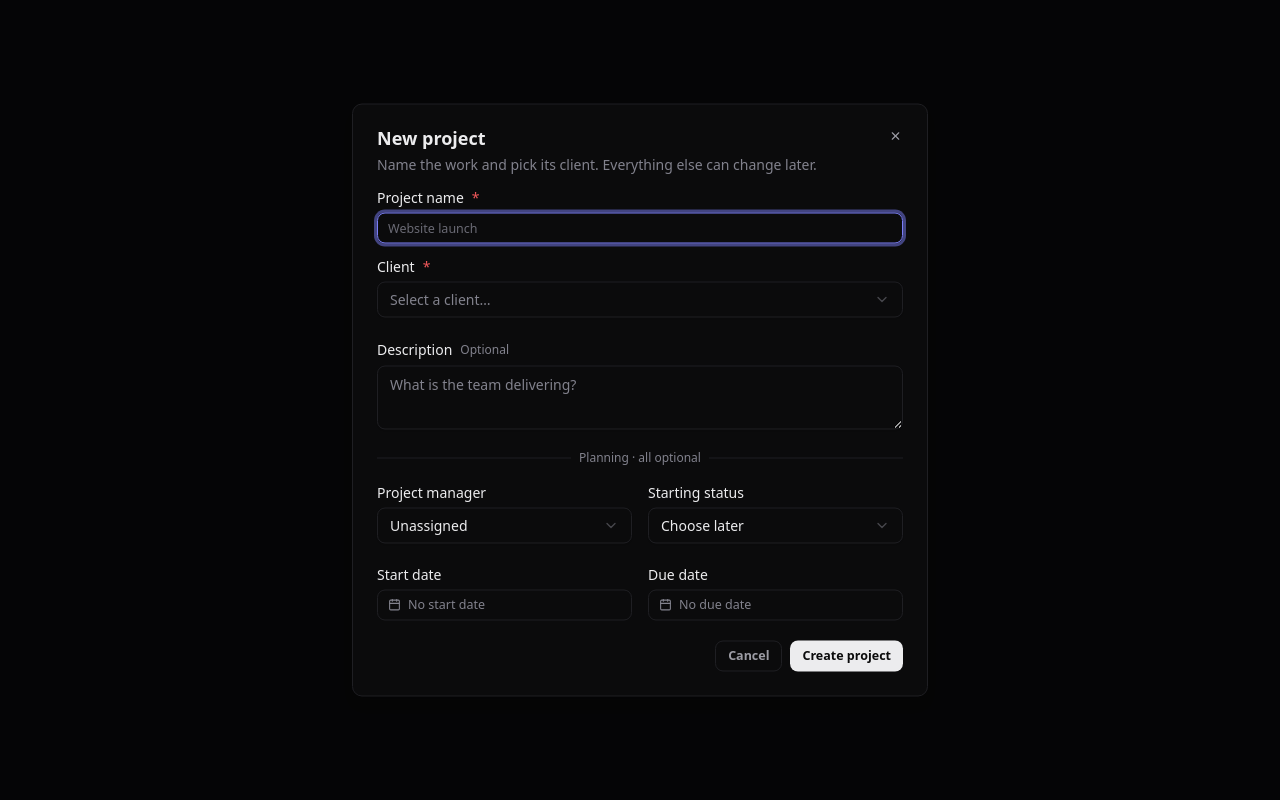
ProjectOnboarding › marks the client select required and reflects the chosen option
Click the dropdown labelled "client" at (440, 299), box [377,282,903,318]
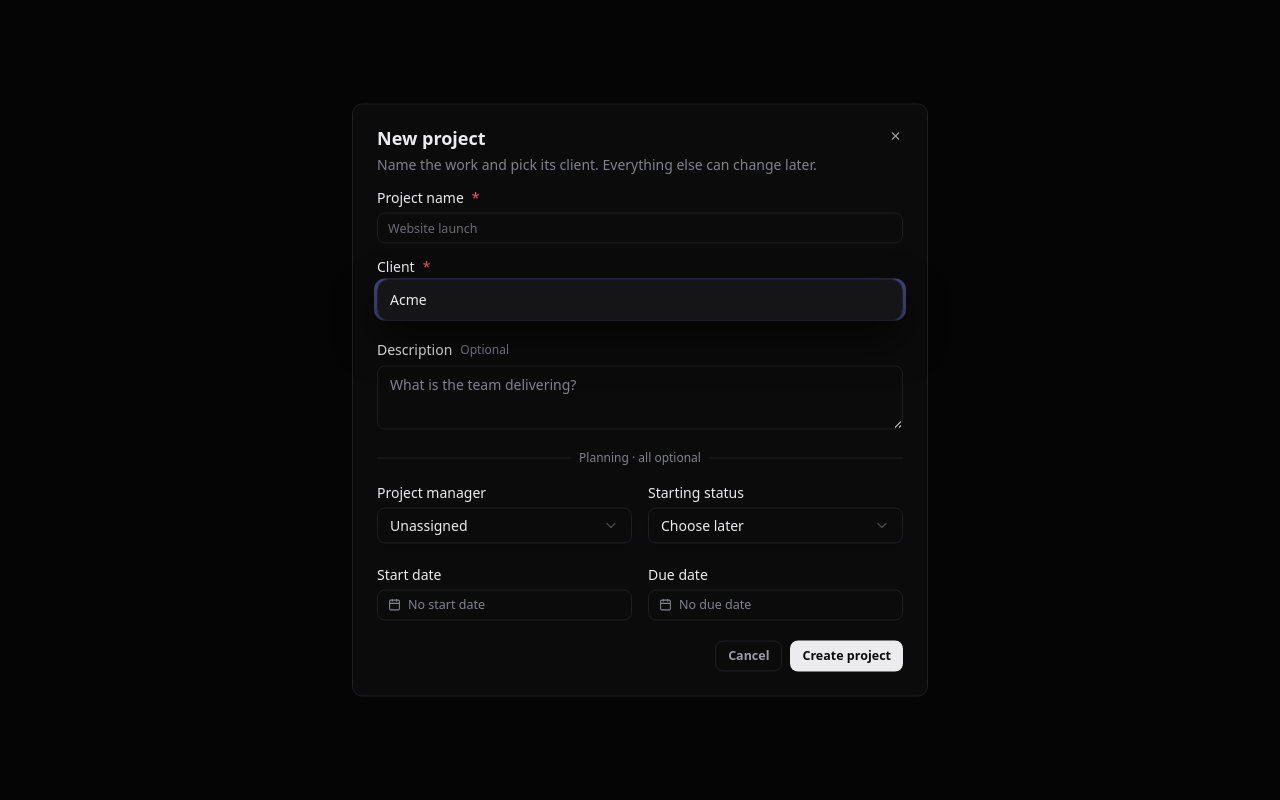
Click the option "Acme" at (408, 299), box [390,290,427,308]
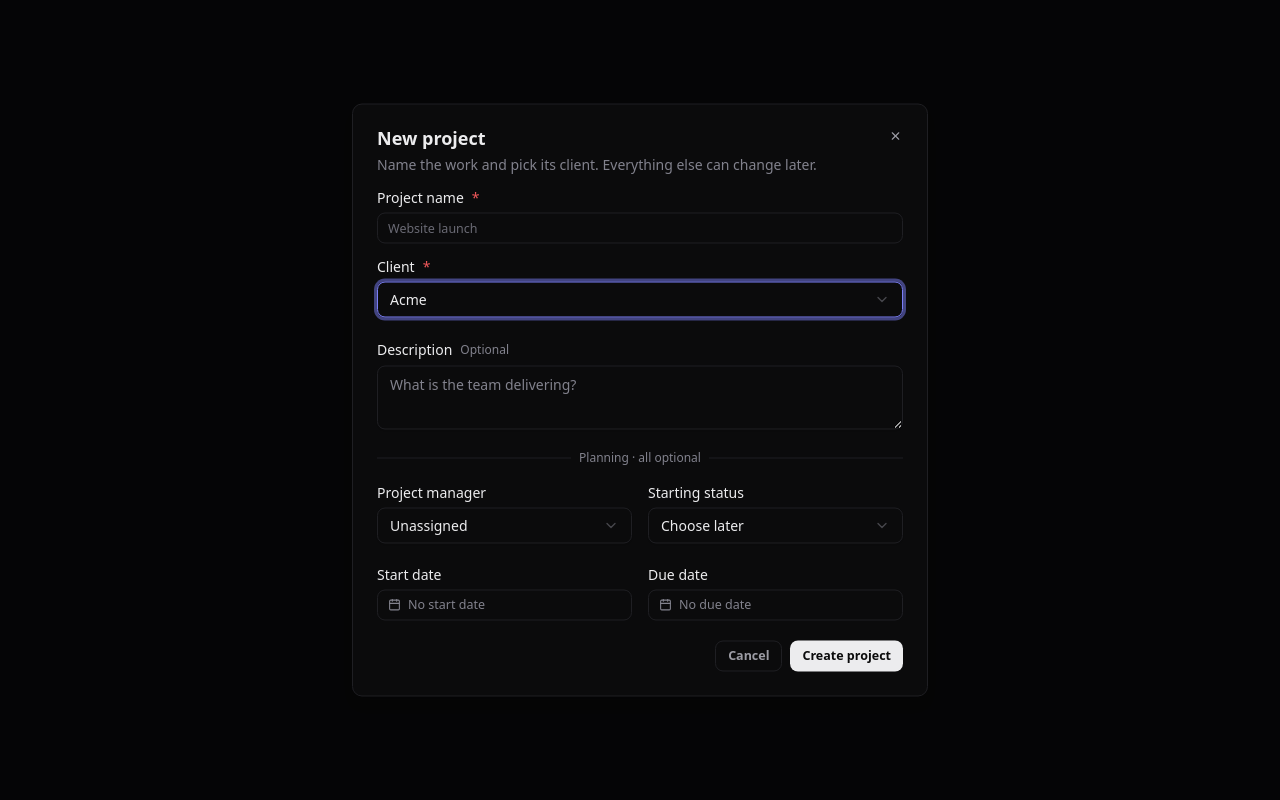
expect the dropdown named "Client" reads "Acme": met, box [377,282,903,318]
expect the list is gone: met
